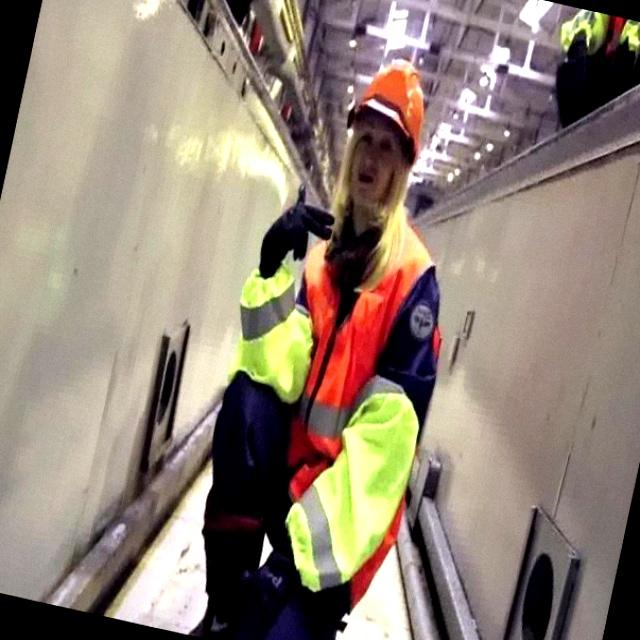helmet: (350, 61, 435, 162)
safety_vest: (244, 204, 457, 594)
